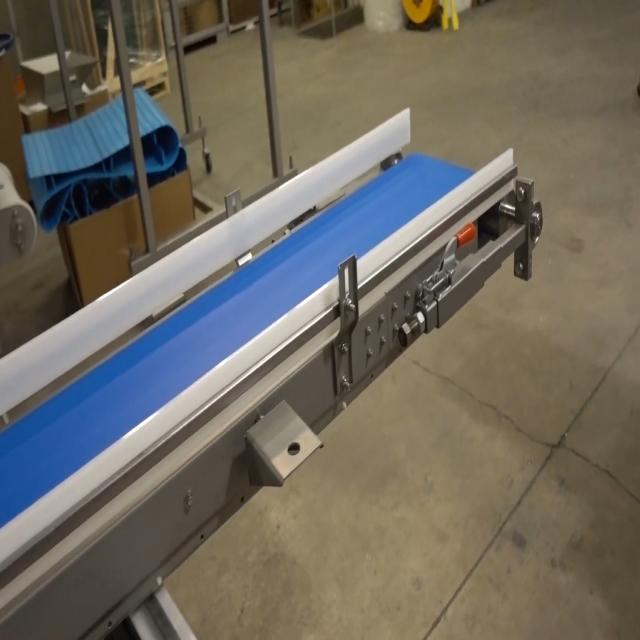Convoyeur: (0, 103, 546, 632)
